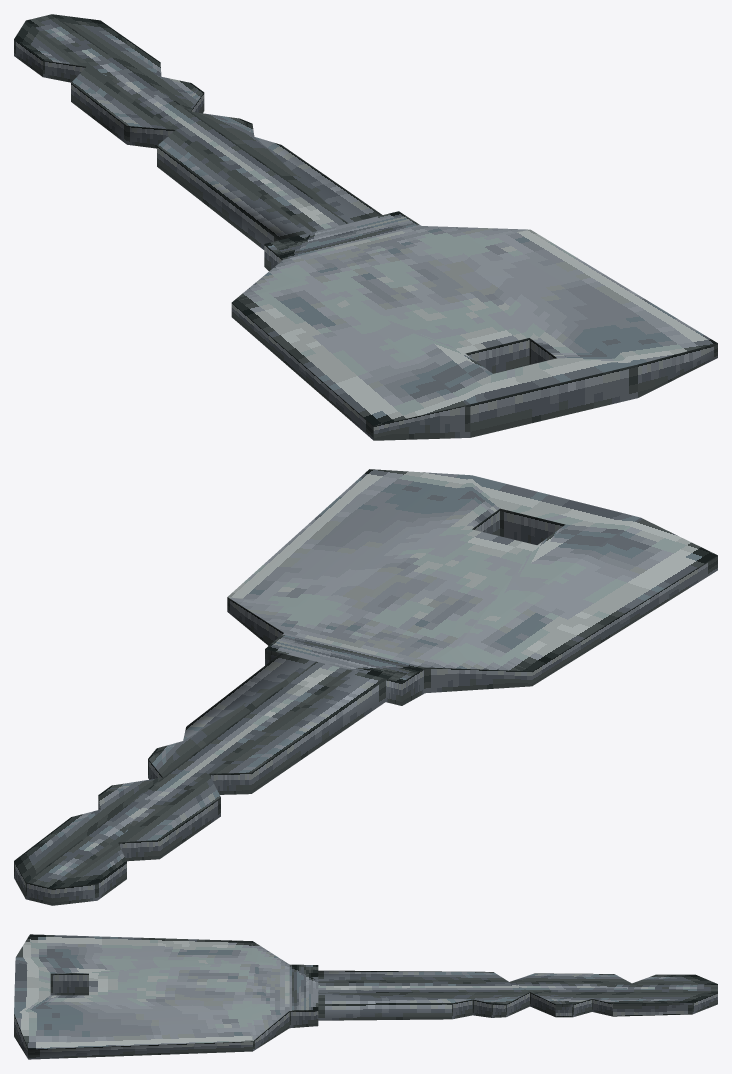
3 renders of one model, top to bottom at view 1: azimuth 30°, elevation 25°; view 2: azimuth 150°, elevation 25°; view 3: azimuth 270°, elevation 25°, orthographic. The views are drawn at different scales.
Visible parts, largest first — view 1: key11; view 2: key11; view 3: key11.
Part boxes in pixels (left/top/right/bottom): key11: left=14, top=14, right=717, bottom=440; key11: left=14, top=469, right=717, bottom=905; key11: left=14, top=934, right=717, bottom=1059.
Size of the model in its own units: 0.342 by 0.032 by 0.884.
1 material, 1 textured.
